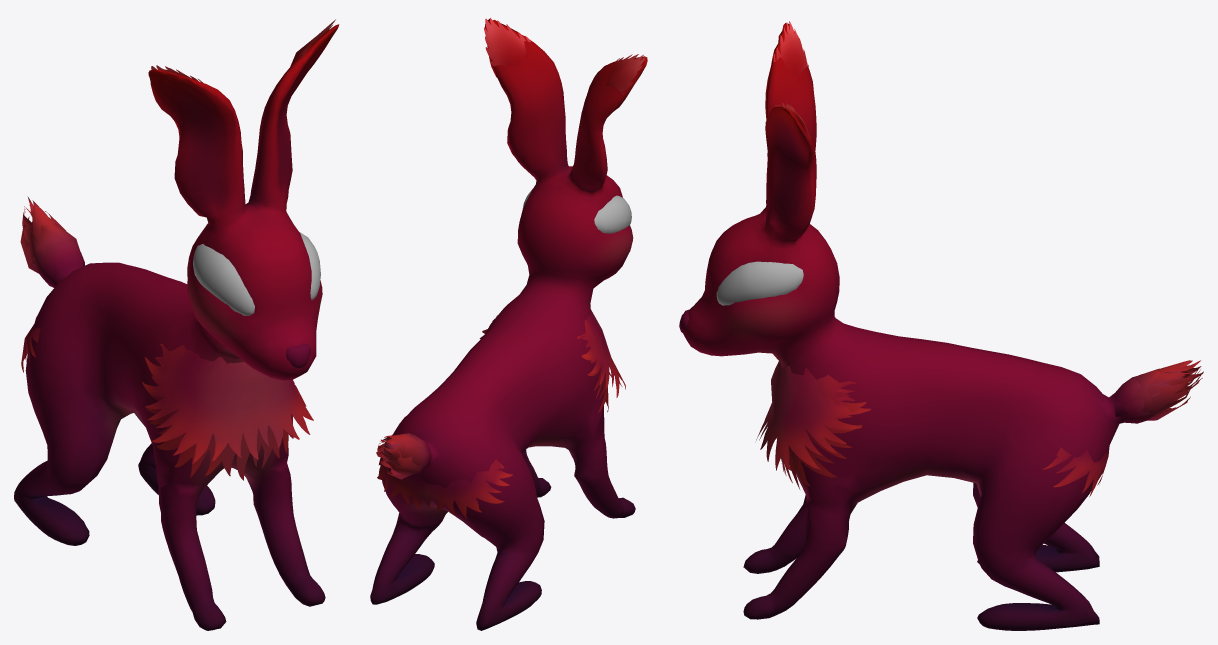
Rendered from Rabbit Low.fbx.
The picture shows the model from 3 angles, left to right: view 1: azimuth 30°, elevation 25°; view 2: azimuth 150°, elevation 25°; view 3: azimuth 270°, elevation 25°; orthographic projection. The views are drawn at different scales.
Parts seen in each view (by area): view 1: Rabbit_Low, Fur3, Eyes_Low, Nose_Low; view 2: Rabbit_Low, Fur3, Eyes_Low; view 3: Rabbit_Low, Fur3, Eyes_Low.
Part boxes in pixels (x1=…): Rabbit_Low: x1=14, y1=24, x2=339, y2=630; Fur3: x1=20, y1=19, x2=335, y2=480; Eyes_Low: x1=193, y1=232, x2=320, y2=315; Nose_Low: x1=285, y1=344, x2=310, y2=368; Rabbit_Low: x1=370, y1=19, x2=647, y2=630; Fur3: x1=376, y1=18, x2=645, y2=518; Eyes_Low: x1=522, y1=189, x2=631, y2=233; Rabbit_Low: x1=683, y1=23, x2=1182, y2=630; Fur3: x1=756, y1=21, x2=1203, y2=496; Eyes_Low: x1=716, y1=261, x2=803, y2=305.
Bounding box in the file's own units: 1.33 × 3.67 × 3.25.
